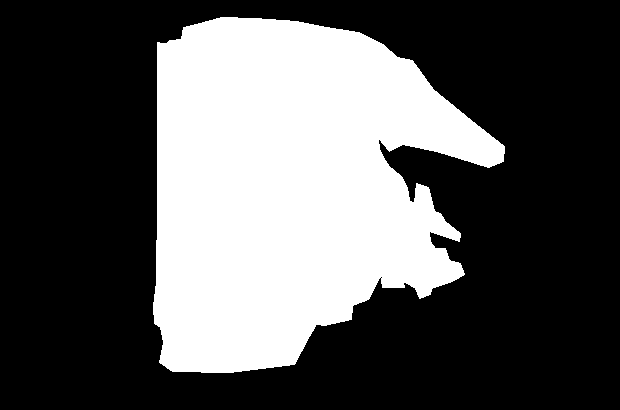type2: (153, 15, 505, 374)
